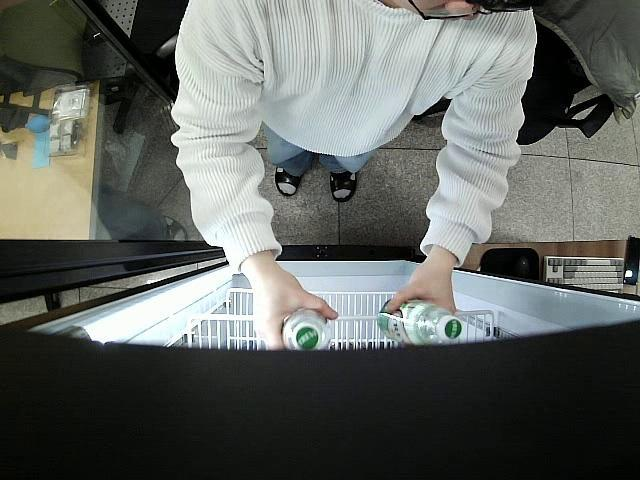18_trevi: (378, 301, 462, 342), (281, 307, 335, 351)
